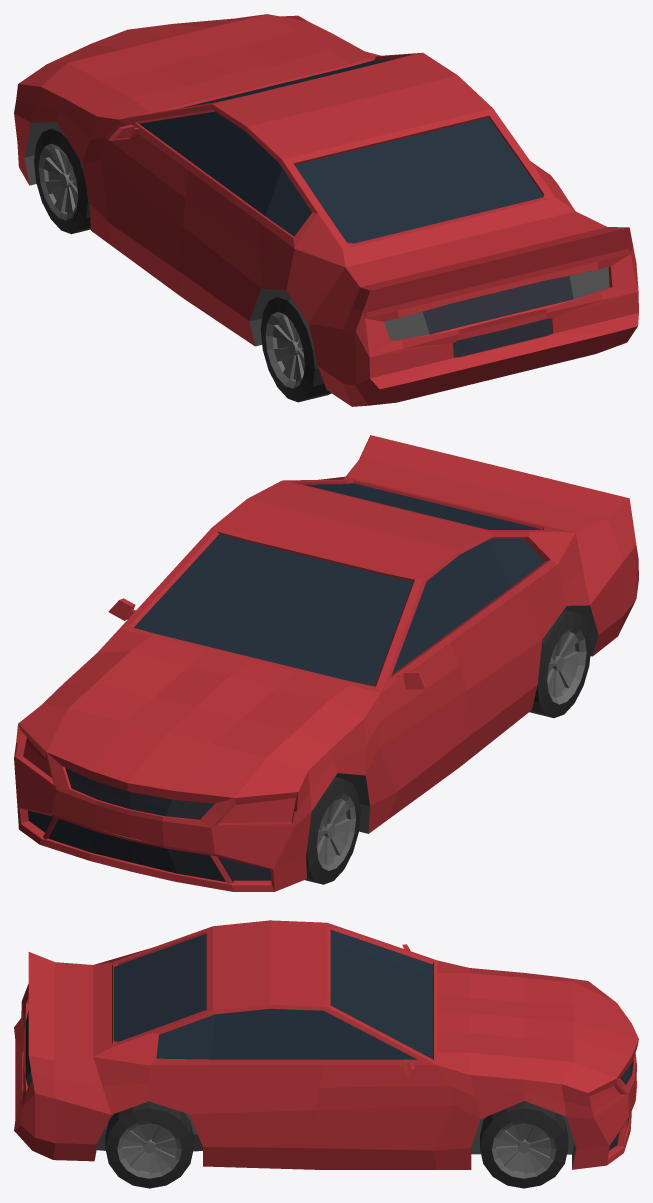
Rendered from LowPolyCarbred.fbx.
The picture shows the model from 3 angles, top to bottom: view 1: azimuth 30°, elevation 25°; view 2: azimuth 150°, elevation 25°; view 3: azimuth 270°, elevation 25°; orthographic projection. The views are drawn at different scales.
Visible parts, largest first — view 1: Cube, WheelBackLeft, WheelFrontLeft, Cube.002; view 2: Cube, WheelBackLeft, WheelFrontLeft, Cube.001; view 3: Cube, WheelBackRight, WheelFrontRight, Cube.001.
Boxes of the visible parts, bbox=[...] form: Cube: bbox=[14, 14, 638, 406]; WheelBackLeft: bbox=[260, 294, 331, 402]; WheelFrontLeft: bbox=[34, 126, 90, 234]; Cube.002: bbox=[384, 267, 609, 340]; Cube: bbox=[14, 435, 638, 891]; WheelBackLeft: bbox=[529, 610, 591, 718]; WheelFrontLeft: bbox=[305, 777, 360, 884]; Cube.001: bbox=[23, 738, 295, 822]; Cube: bbox=[14, 920, 638, 1169]; WheelBackRight: bbox=[105, 1101, 193, 1188]; WheelFrontRight: bbox=[480, 1101, 568, 1188]; Cube.001: bbox=[589, 1086, 619, 1112].
Bounding box in the file's own units: 245 × 155 × 511.
